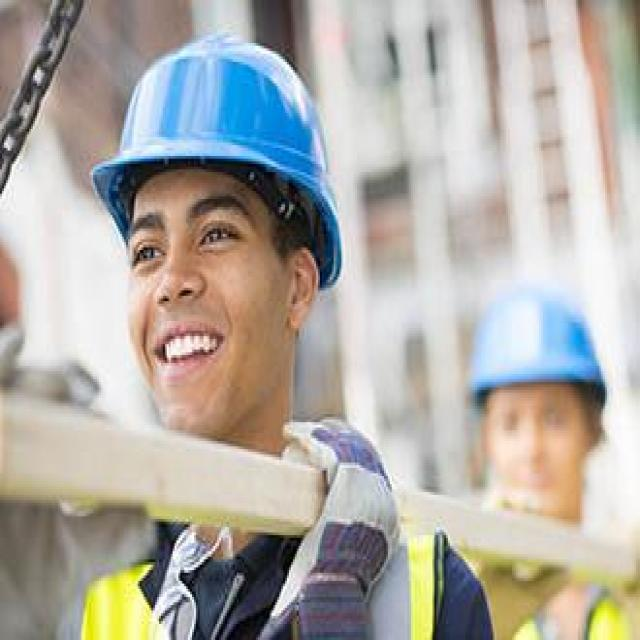Reflective-Jacket: (81, 508, 462, 640)
Safety-Helmet: (87, 32, 359, 269), (456, 269, 616, 411)
